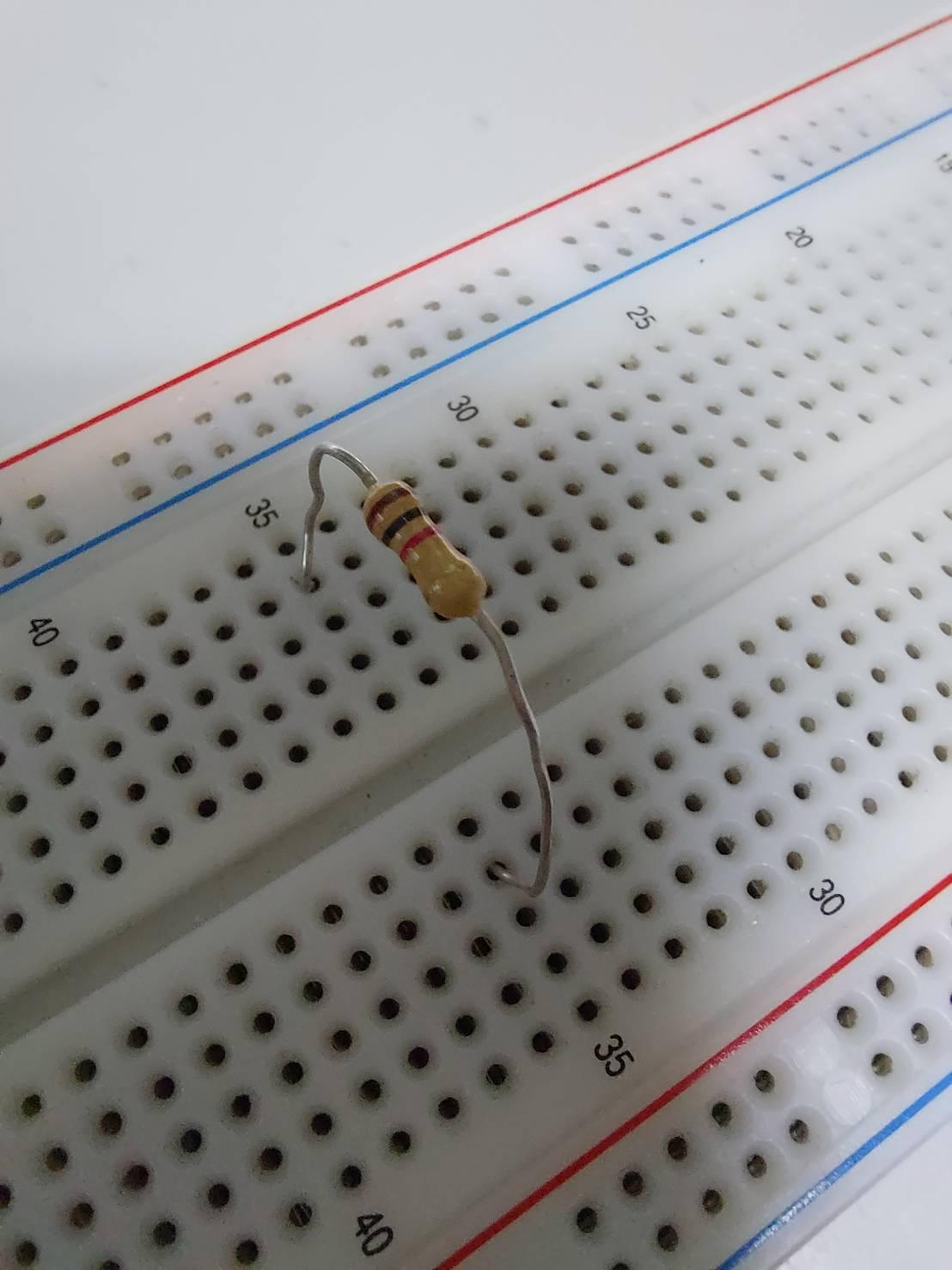resistor: (349, 477, 502, 630)
